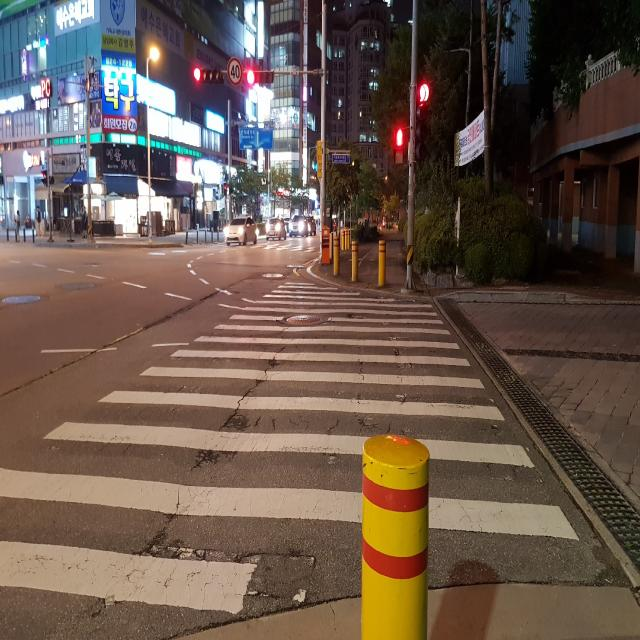빨간불: (395, 128, 405, 168)
횡단보도: (0, 279, 581, 620)
